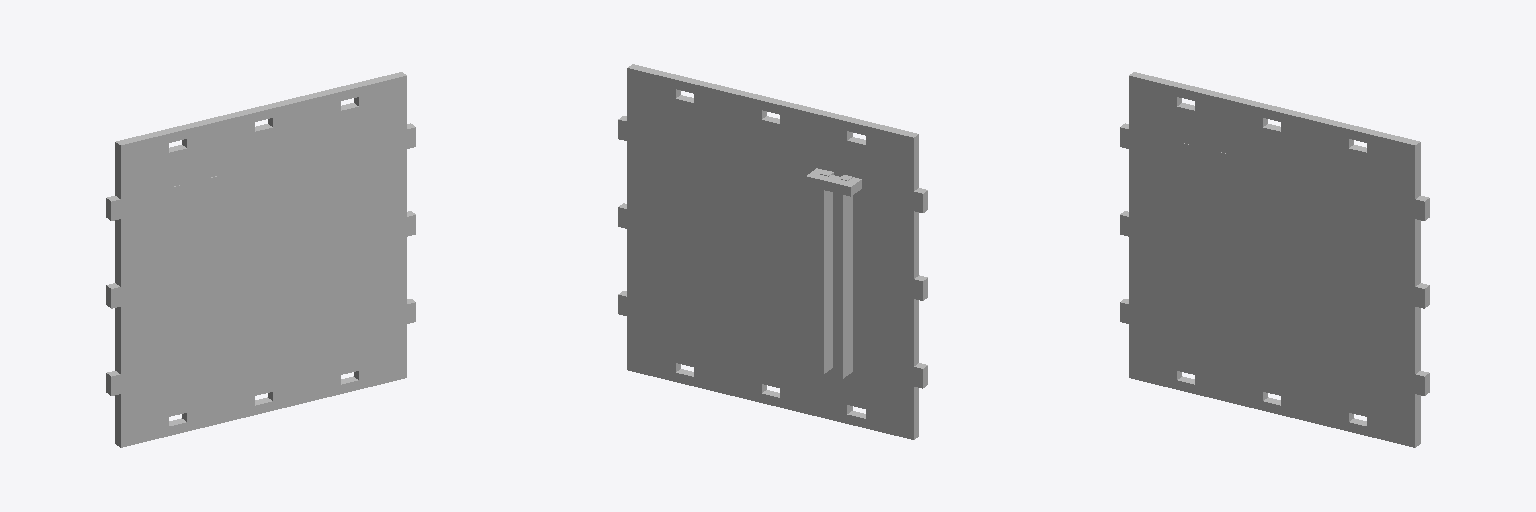
File: Right.obj
The picture shows the model from 3 angles: view 1: azimuth 30°, elevation 25°; view 2: azimuth 150°, elevation 25°; view 3: azimuth 330°, elevation 25°; orthographic projection.
Visible parts, largest first — view 1: obj1; view 2: obj1; view 3: obj1.
Boxes of the visible parts, x1,y1,x2,y2 form: obj1: [106, 72, 415, 447]; obj1: [618, 64, 927, 439]; obj1: [1120, 72, 1429, 447].
Size of the model in its own units: 100 by 95 by 9.